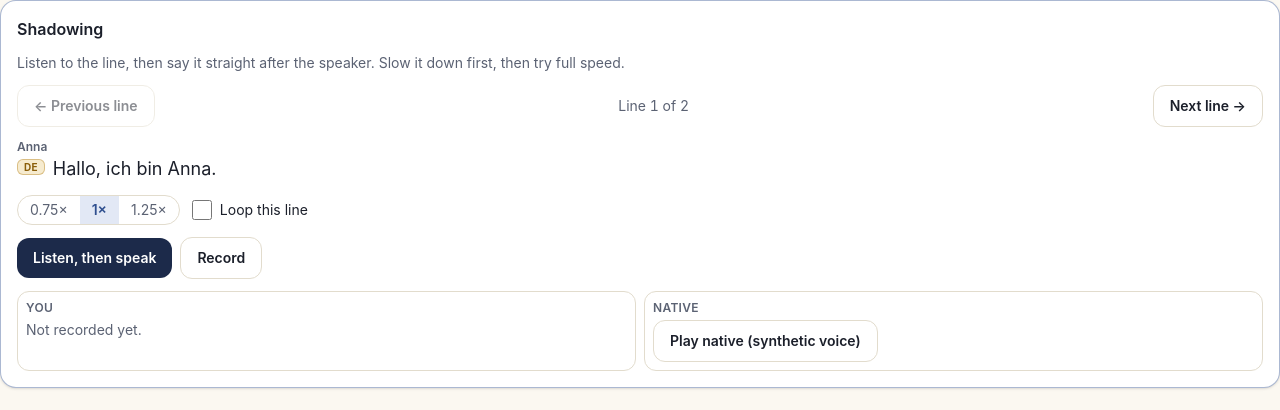
LevelMeter and ShadowPanel › dialogue shadowing steps through the lines with a fresh recorder each
Expected: the text "Line 1 of 2" is shown, [618, 96, 689, 116]
Expected: the button "Listen, then speak" is shown, [17, 238, 172, 278]
Click the button "Next line →".
click(1208, 106)  # box [1153, 85, 1263, 127]
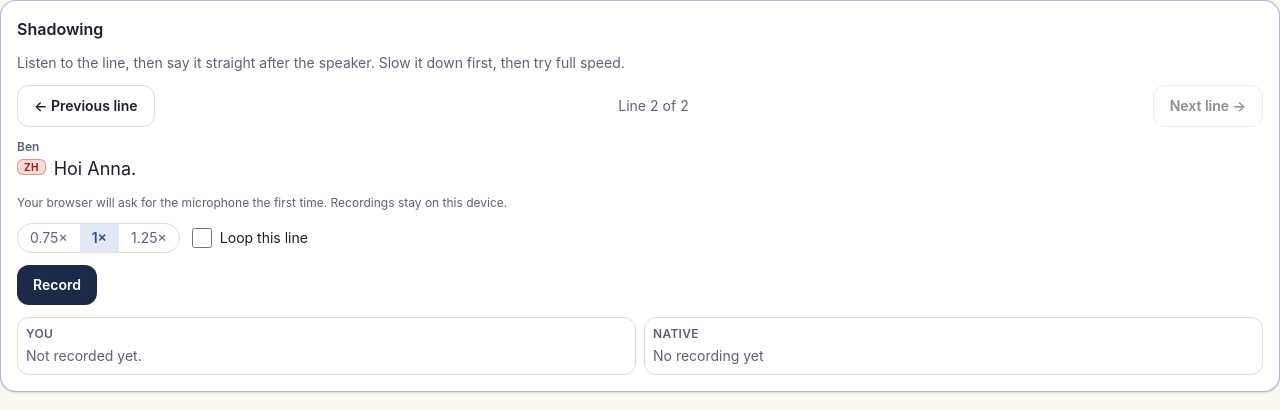
Expected: the text "Line 2 of 2" is shown, [618, 96, 689, 116]
Expected: the button "Listen, then speak" is gone
Expected: the text "No recording yet" is shown, [653, 347, 764, 364]
